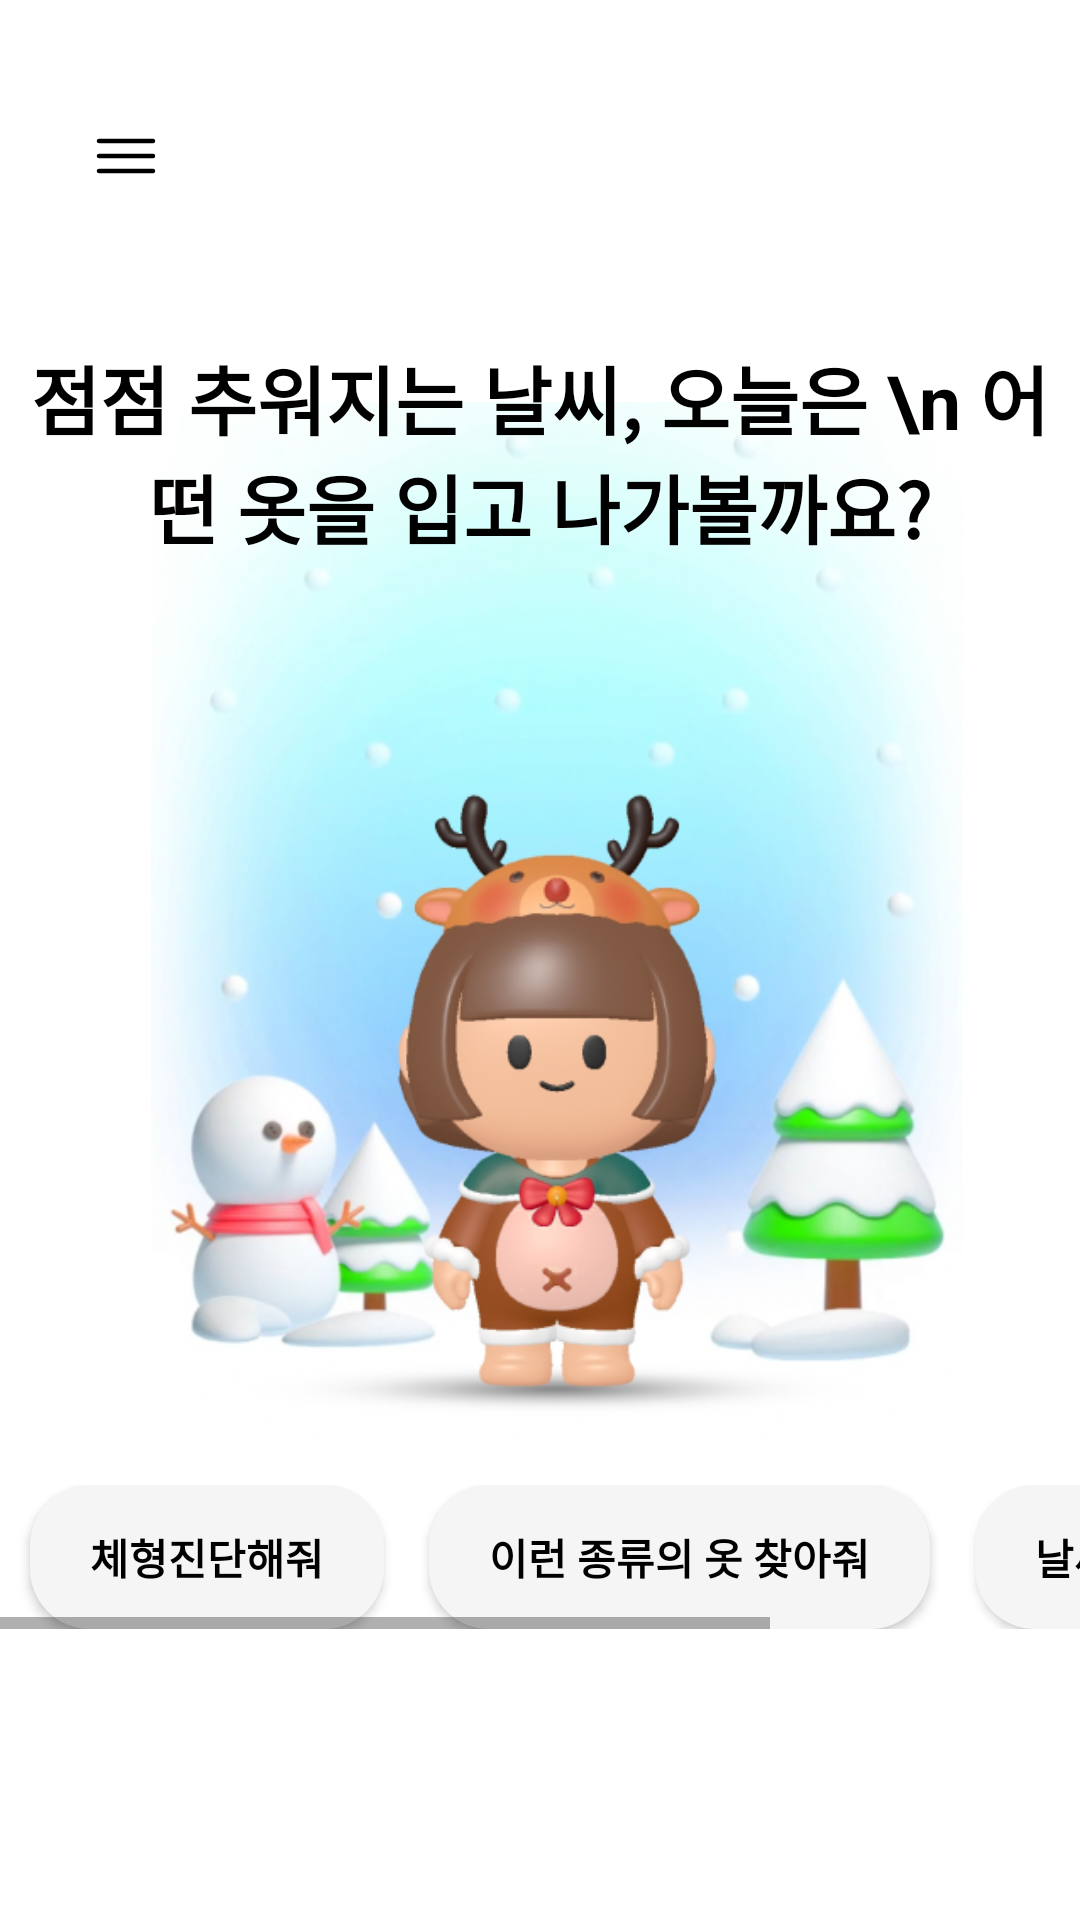

Where to tap for icons on this 1080×1920 app screen, as (x=x, y=y):
hamburger menu: (x=125, y=156)
